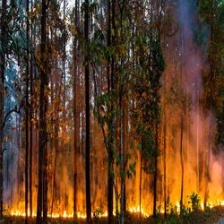fire: (5, 194, 224, 222)
